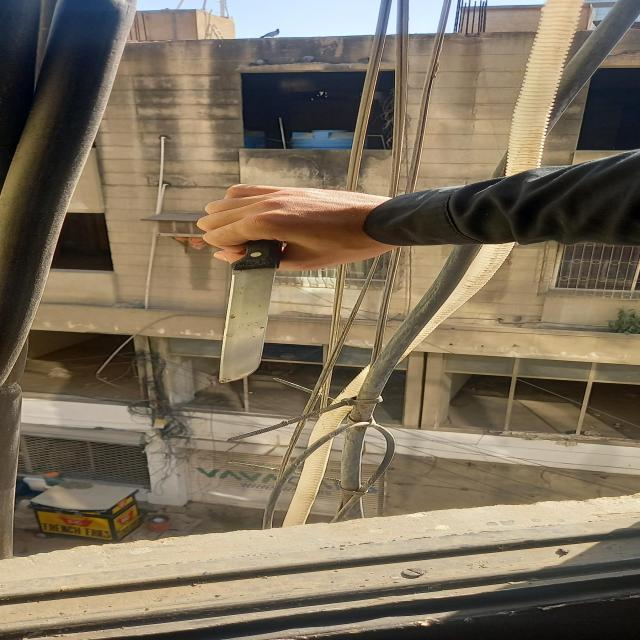faca: (217, 238, 285, 382)
